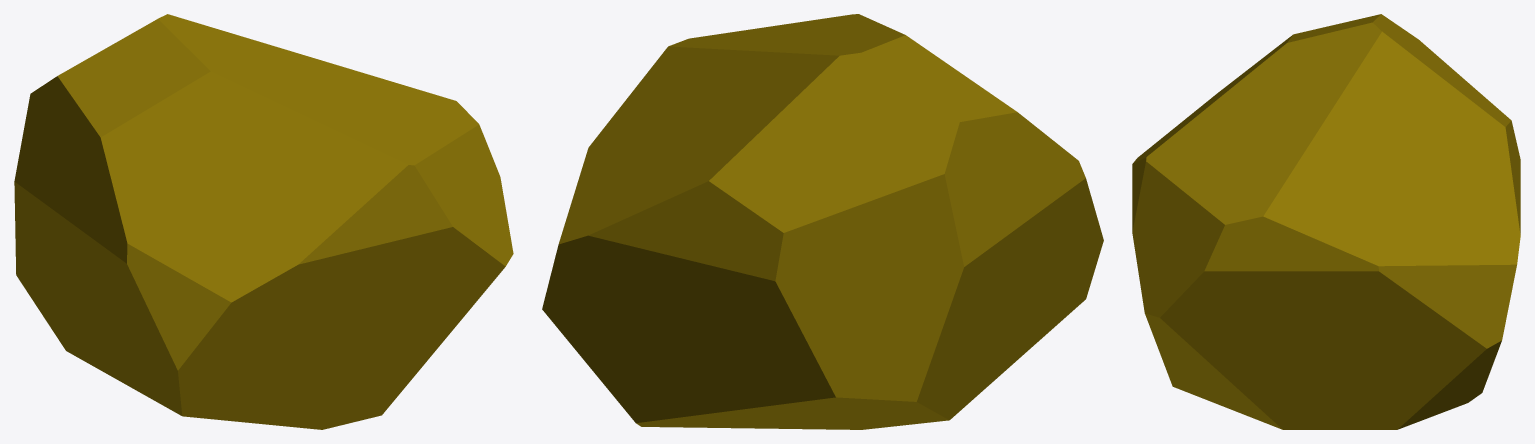
Rendered from Debrisblend.fbx.
3 renders of one model, left to right at view 1: azimuth 30°, elevation 25°; view 2: azimuth 150°, elevation 25°; view 3: azimuth 270°, elevation 25°, orthographic. The views are drawn at different scales.
Parts seen in each view (by area): view 1: Cube; view 2: Cube; view 3: Cube.
Boxes of the visible parts, x1,y1,x2,y2 form: Cube: (14, 14, 513, 429); Cube: (542, 14, 1103, 429); Cube: (1132, 14, 1520, 429).
Bounding box in the file's own units: 252 × 225 × 252.
